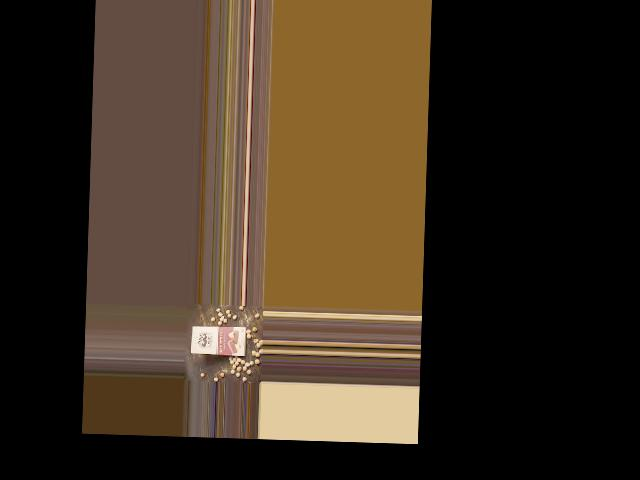chocolate: (189, 324, 247, 358)
